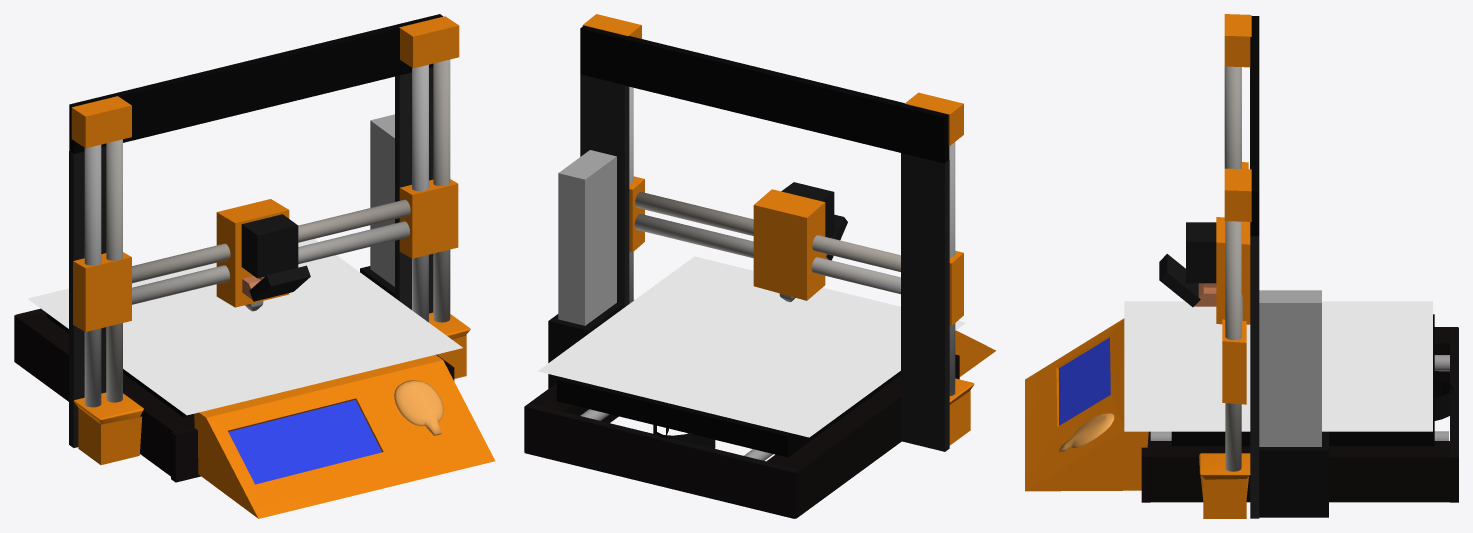
Rendered from 3D printer.fbx.
3 views of the same model, side by side, from view 1: azimuth 30°, elevation 25°; view 2: azimuth 150°, elevation 25°; view 3: azimuth 270°, elevation 25° (orthographic). The views are drawn at different scales.
Parts seen in each view (by area): view 1: 3D Printer; view 2: 3D Printer; view 3: 3D Printer.
Boxes of the visible parts, <box> form: 3D Printer: <box>14,14,495,518</box>; 3D Printer: <box>524,14,995,518</box>; 3D Printer: <box>1025,14,1458,518</box>.
Size of the model in its own units: 323 by 286 by 336.
